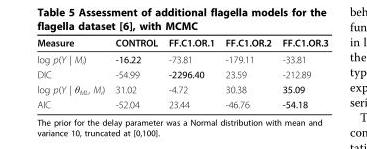table: (36, 36, 327, 109)
table column: (36, 36, 109, 109), (162, 36, 219, 109), (219, 36, 276, 109), (109, 36, 162, 109), (276, 36, 327, 109)
table column header: (36, 36, 327, 50)
table row: (36, 50, 327, 67), (36, 81, 327, 97), (36, 36, 327, 50), (36, 67, 327, 81), (36, 97, 327, 109)
